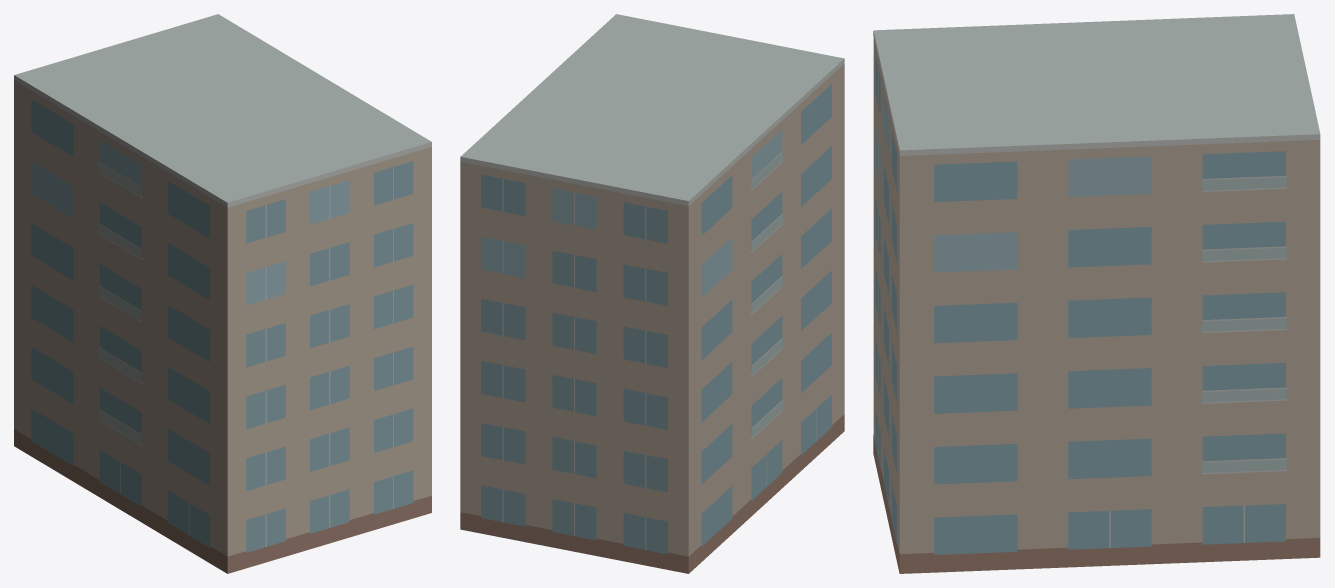
Rendered from survey-upis-32754600.glb.
3 renders of one model, left to right at view 1: azimuth 30°, elevation 25°; view 2: azimuth 150°, elevation 25°; view 3: azimuth 270°, elevation 25°, orthographic. The views are drawn at different scales.
Visible parts, largest first — view 1: survey-upis-32754600.tmp; view 2: survey-upis-32754600.tmp; view 3: survey-upis-32754600.tmp.
Part boxes in pixels (x1,y1,x2,y2): survey-upis-32754600.tmp: [14, 14, 431, 573]; survey-upis-32754600.tmp: [460, 14, 844, 573]; survey-upis-32754600.tmp: [873, 14, 1320, 573].
Bounding box in the file's own units: 12.65 × 18.3 × 17.52.
